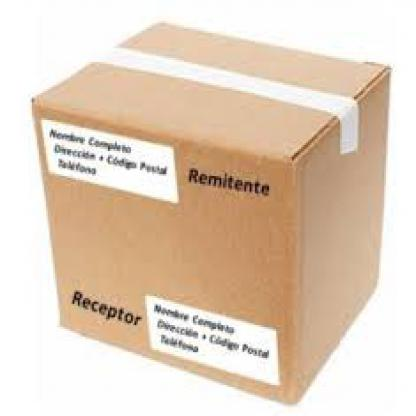paquete: (18, 6, 396, 410)
